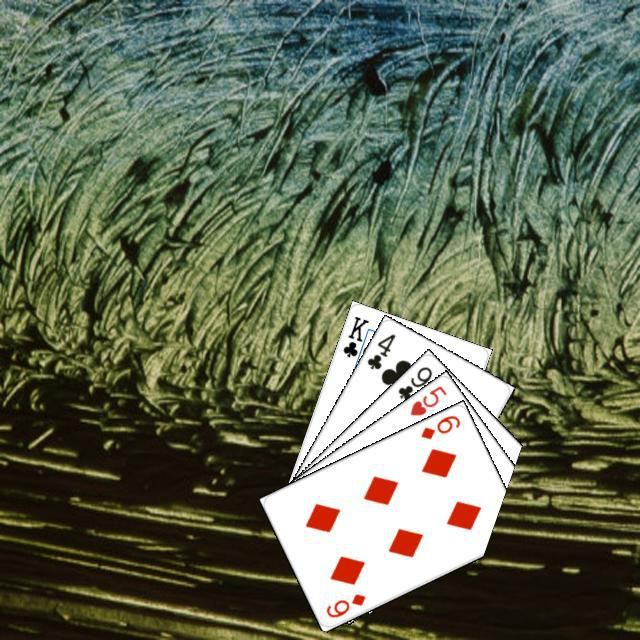4c: (362, 329, 397, 371)
5h: (405, 381, 448, 418)
6d: (416, 410, 462, 441), (321, 589, 367, 619)
9c: (393, 361, 434, 402)
Kc: (338, 311, 372, 366)
